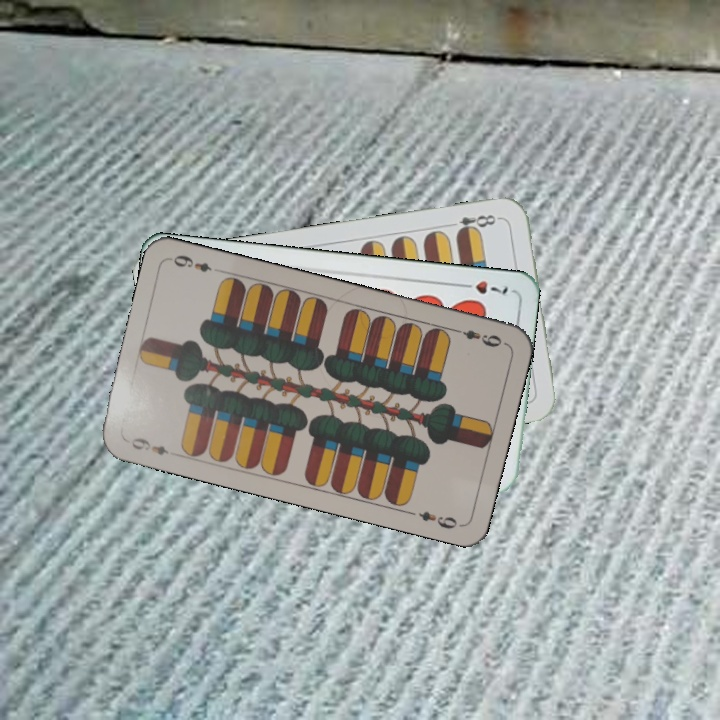E8: (444, 210, 503, 237)
E9: (449, 324, 508, 350), (127, 434, 171, 458)
H7: (454, 276, 510, 297)
